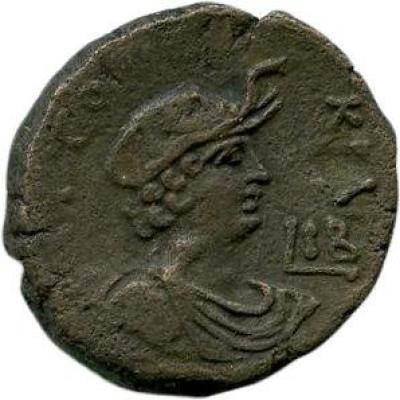numismatics: (4, 4, 397, 397)
